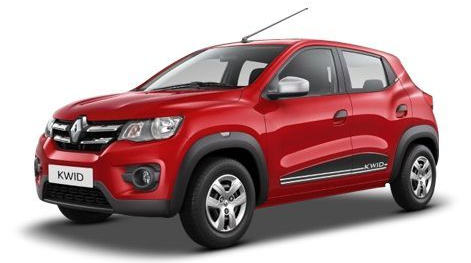car: (24, 35, 444, 255)
